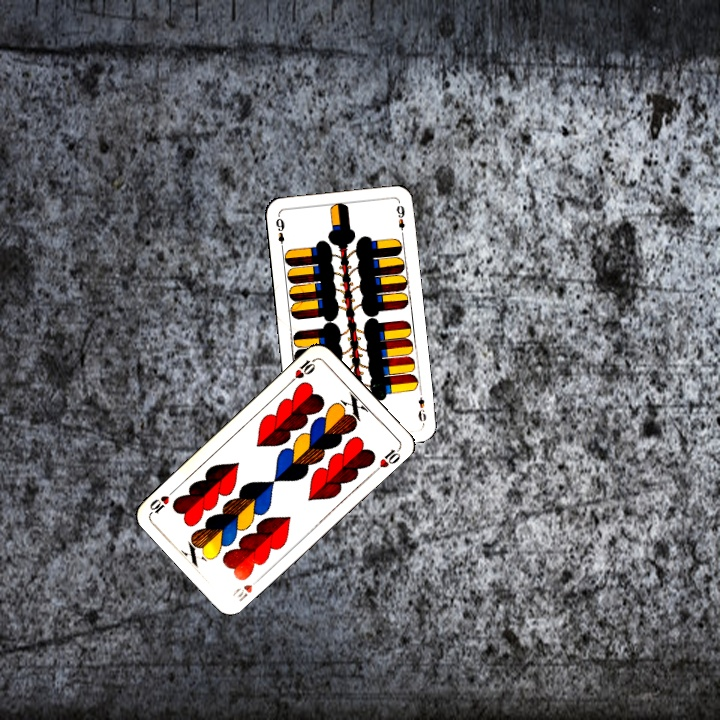E9: (414, 387, 429, 428), (272, 214, 287, 253)
H10: (228, 573, 264, 604), (285, 355, 318, 386)
